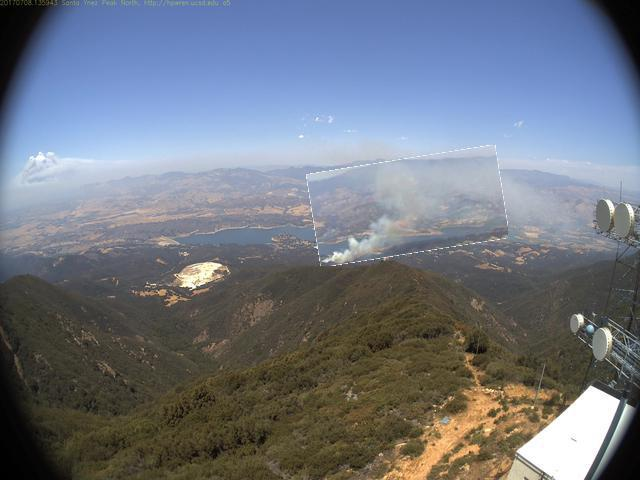smoke: (310, 153, 507, 261)
